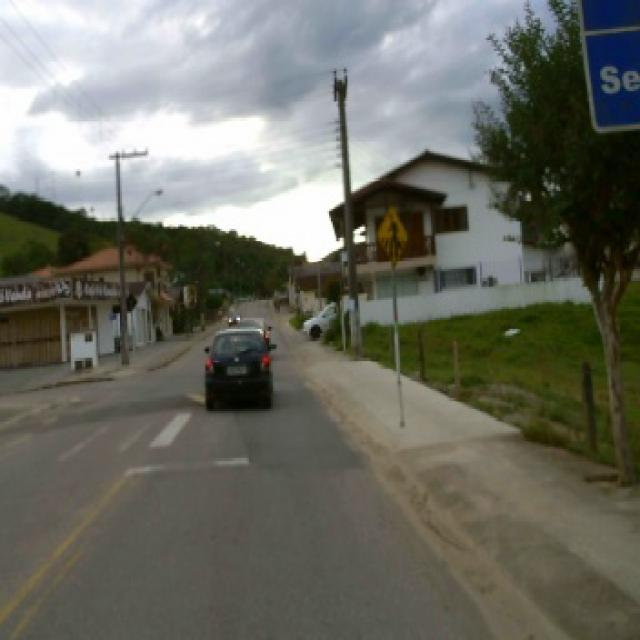Poth-hole: (8, 389, 202, 431)
